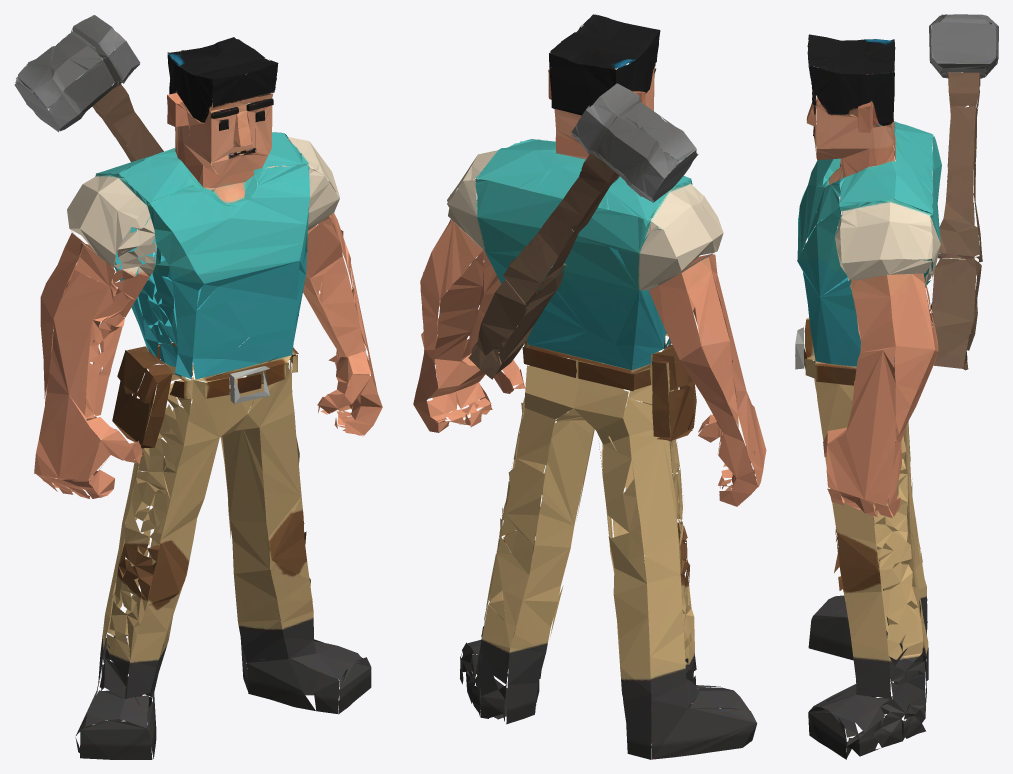
Rendered from habitant.glb.
The picture shows the model from 3 angles, left to right: view 1: azimuth 30°, elevation 25°; view 2: azimuth 150°, elevation 25°; view 3: azimuth 270°, elevation 25°; orthographic projection. The views are drawn at different scales.
Parts seen in each view (by area): view 1: world; view 2: world; view 3: world.
Part boxes in pixels (bbox=[...]): world: bbox=[14, 15, 382, 759]; world: bbox=[413, 14, 766, 759]; world: bbox=[795, 14, 998, 759].
Bounding box in the file's own units: 0.5317 × 1 × 0.2852.
1 material, 1 textured.
